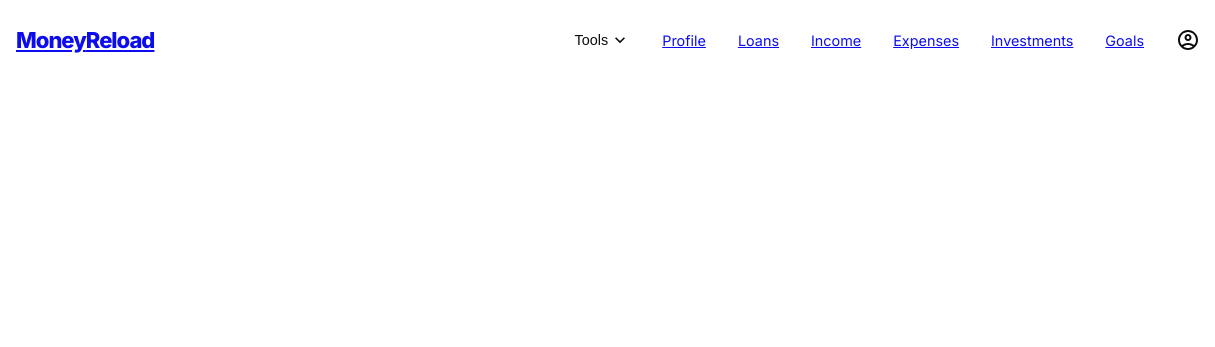
Test: AppBar › signed in › expands the tool links on hover and collapses them again
Step 1. Hover over the button "Tools" → {"x": 602, "y": 41}, box 559,8 -> 646,74
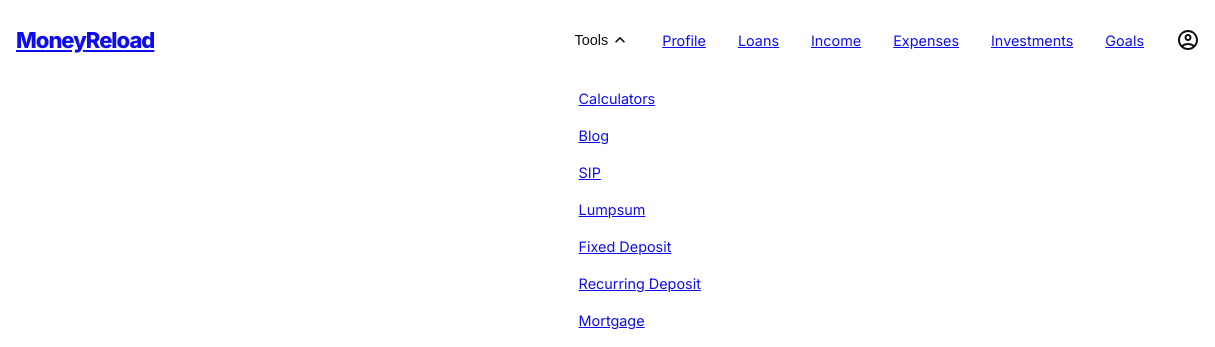
Now the button "Tools" is expanded
Now the link "Fixed Deposit" is shown, box 579,238 -> 671,255
Now the link "Mortgage" is shown, box 579,312 -> 645,329
Step 2. Move the pointer off the button "Tools", box 559,8 -> 646,74
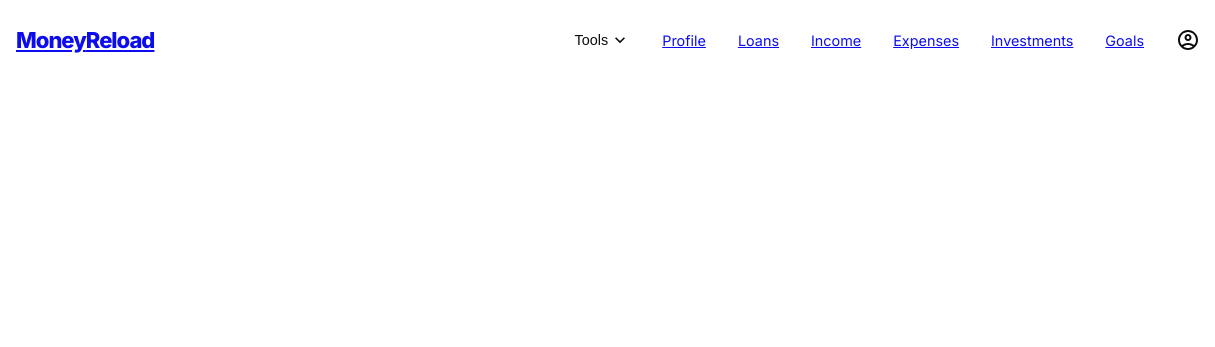
Now the button "Tools" is collapsed, box 559,8 -> 646,74
Now the link "Calculators" is gone
